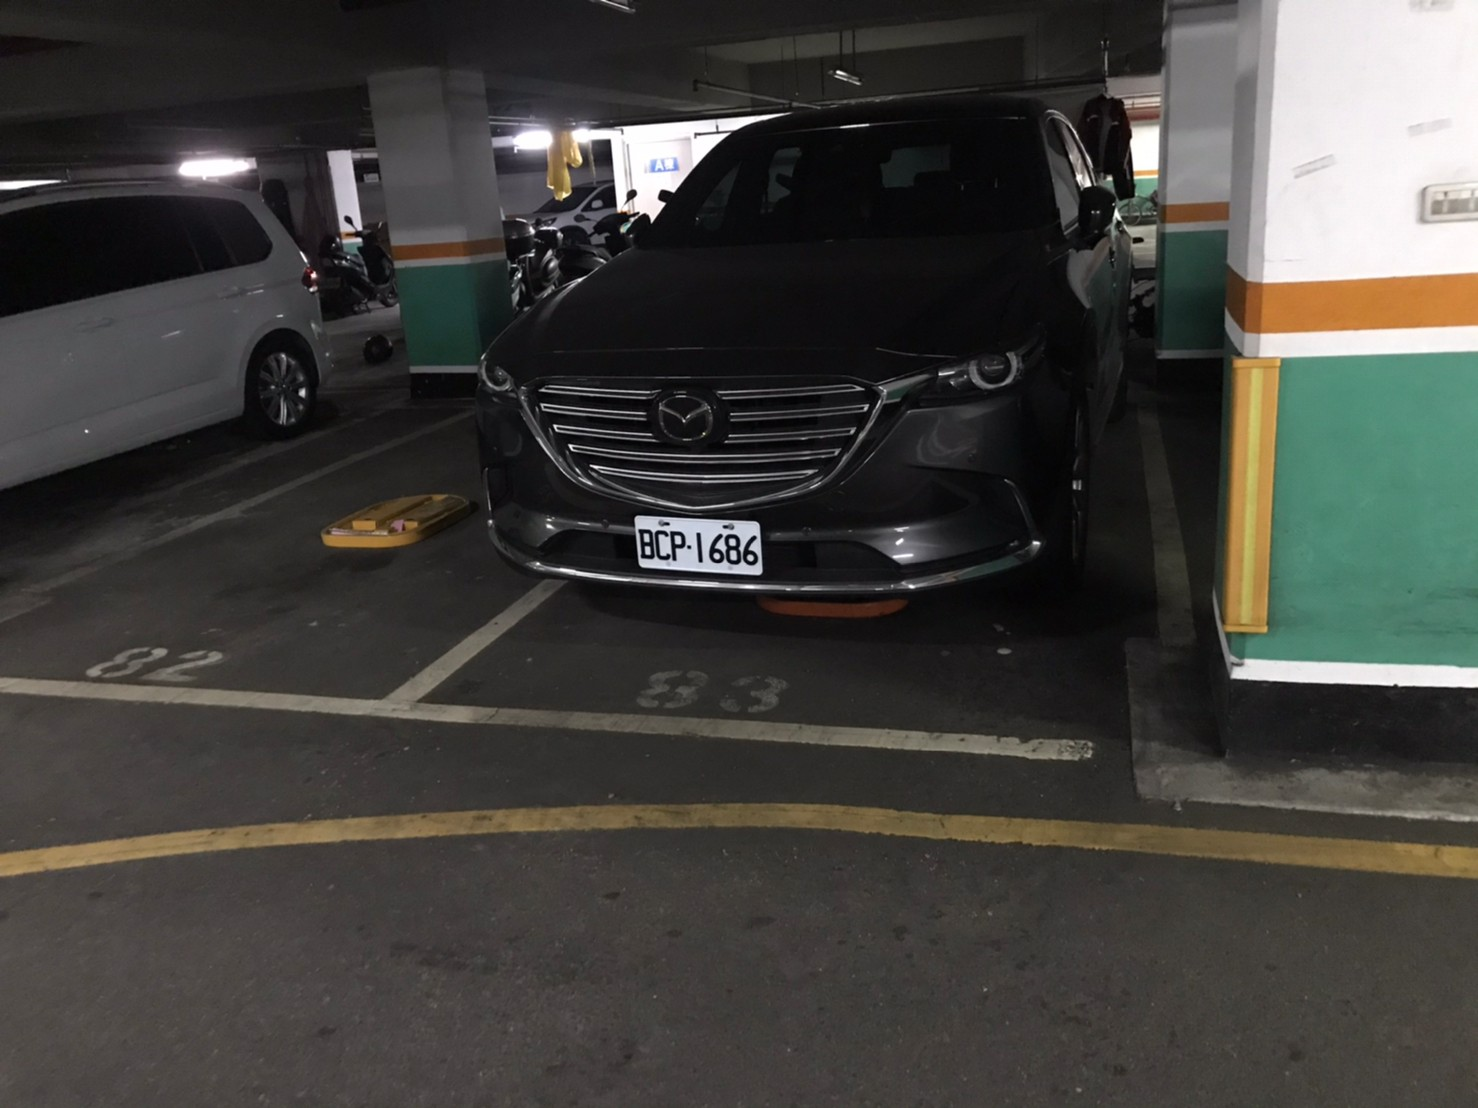LP: (632, 513, 765, 580)
